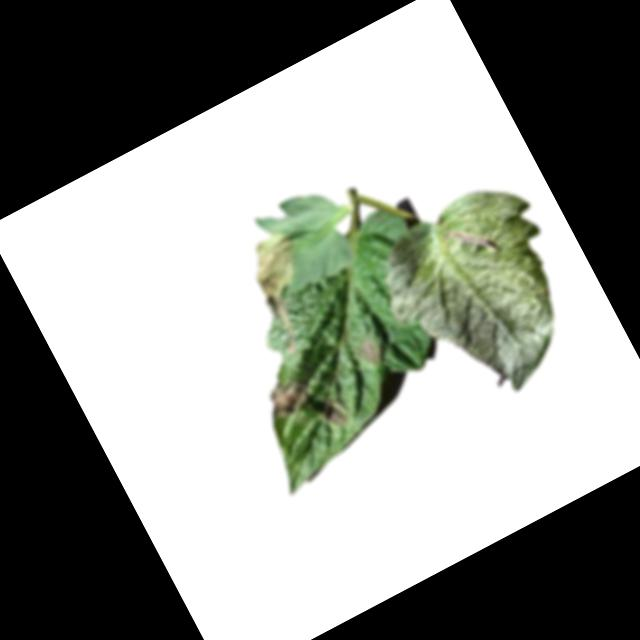Late_blight: (241, 226, 312, 300), (261, 291, 309, 355), (263, 374, 315, 422), (353, 338, 385, 372), (321, 399, 351, 433)
